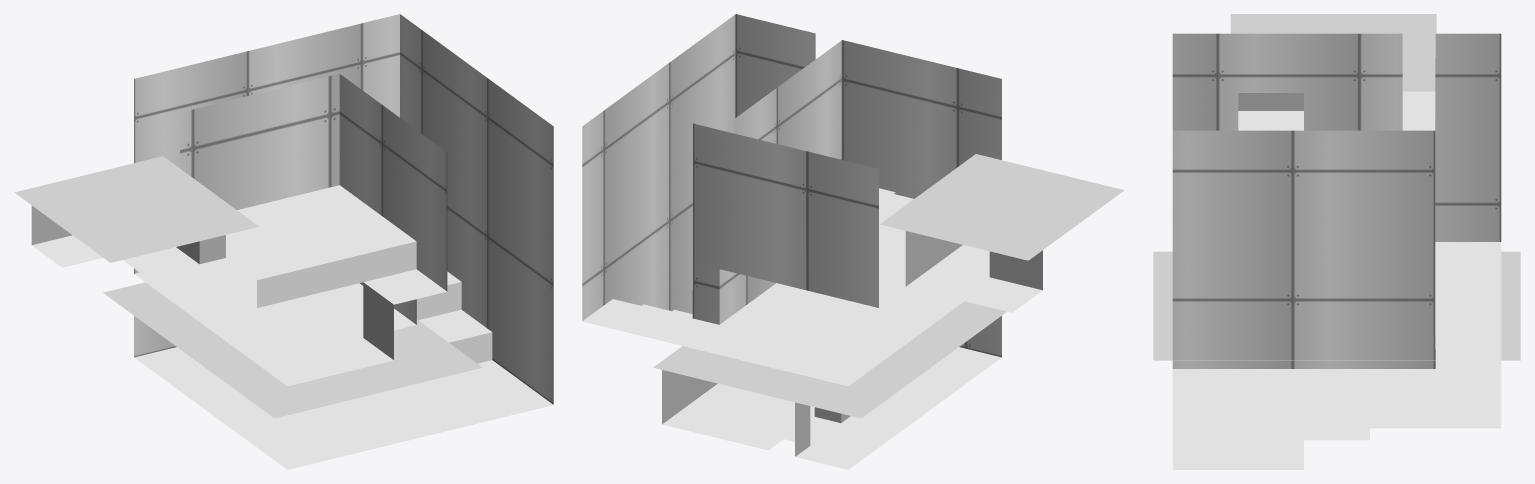
File: Area1.gltf
The picture shows the model from 3 angles, left to right: view 1: azimuth 30°, elevation 25°; view 2: azimuth 150°, elevation 25°; view 3: azimuth 270°, elevation 25°; orthographic projection. The views are drawn at different scales.
Parts seen in each view (by area): view 1: Grid.001; view 2: Grid.001; view 3: Grid.001.
Boxes of the visible parts, bbox=[...] form: Grid.001: bbox=[14, 14, 553, 469]; Grid.001: bbox=[582, 14, 1124, 469]; Grid.001: bbox=[1153, 14, 1520, 469].
Size of the model in its own units: 31.26 by 20 by 22.37.
Materials: 4 (1 with a texture image).
